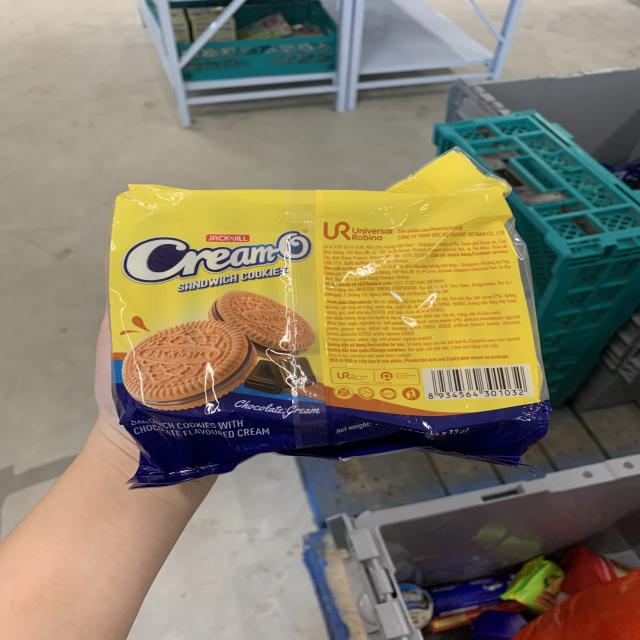object_name: (121, 192, 525, 449)
